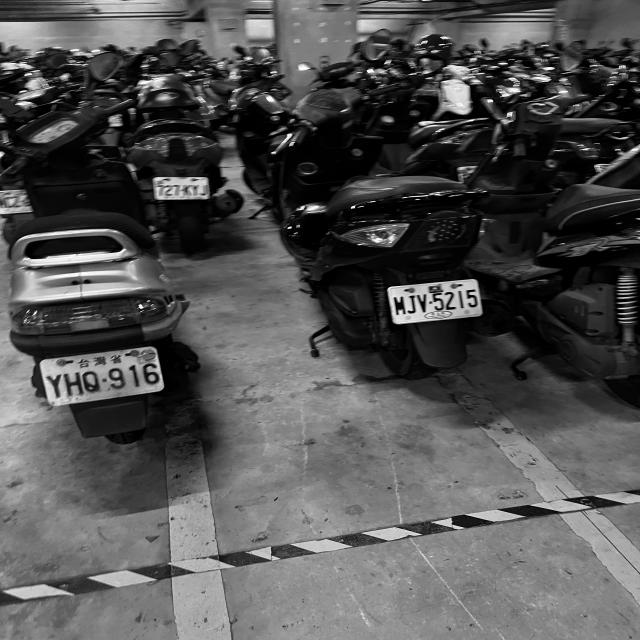-: (101, 377, 107, 382), (428, 300, 432, 304)
1: (128, 363, 142, 388), (456, 290, 465, 309)
2: (444, 291, 458, 311), (165, 184, 173, 196)
5: (431, 292, 445, 311), (465, 289, 479, 308)
6: (140, 363, 162, 389)
7: (156, 184, 164, 196), (173, 184, 180, 196)
9: (108, 366, 126, 391)
H: (62, 371, 86, 398)
J: (406, 294, 418, 315), (200, 184, 208, 196)
K: (184, 184, 192, 196)
M: (392, 296, 407, 316)
Q: (81, 370, 102, 393)
V: (416, 293, 428, 313)
Y: (45, 373, 64, 400)
plate: (41, 349, 165, 406), (388, 280, 483, 323), (153, 178, 211, 200)
